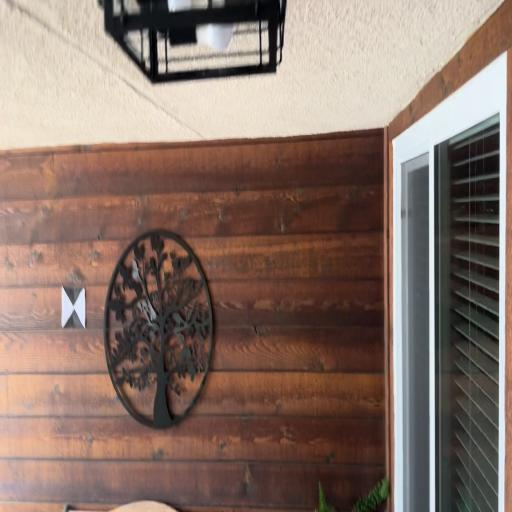target: (61, 286, 86, 328)
